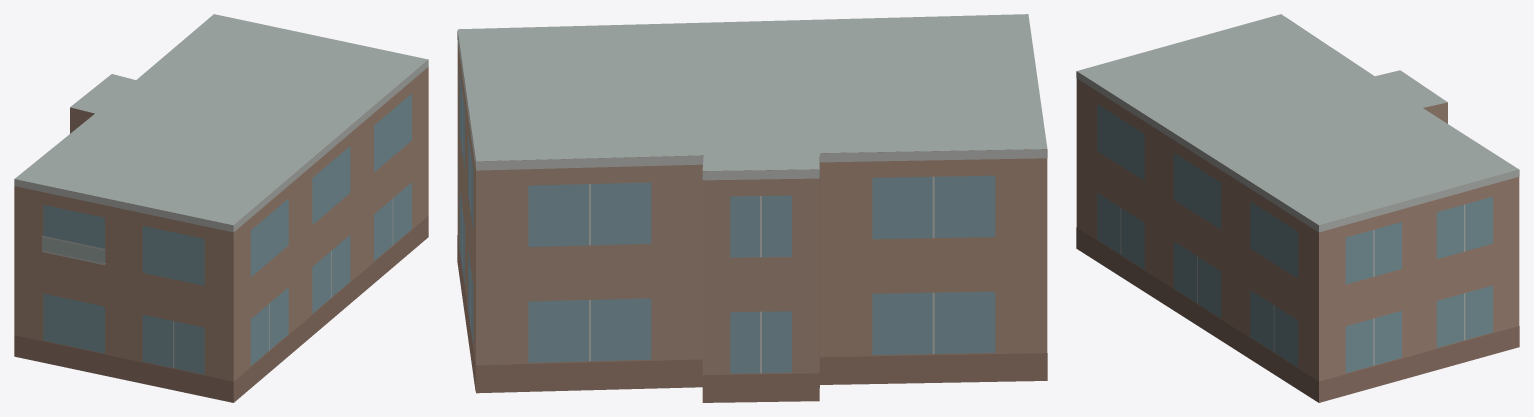
The model's file is survey-upis-32624059.glb.
The picture shows the model from 3 angles, left to right: view 1: azimuth 30°, elevation 25°; view 2: azimuth 150°, elevation 25°; view 3: azimuth 270°, elevation 25°; orthographic projection. The views are drawn at different scales.
Parts seen in each view (by area): view 1: survey-upis-32624059.tmp; view 2: survey-upis-32624059.tmp; view 3: survey-upis-32624059.tmp.
Boxes of the visible parts, bbox=[...] form: survey-upis-32624059.tmp: bbox=[14, 14, 428, 402]; survey-upis-32624059.tmp: bbox=[457, 14, 1047, 402]; survey-upis-32624059.tmp: bbox=[1076, 14, 1519, 402].
Size of the model in its own units: 15.58 by 6.1 by 13.8.
